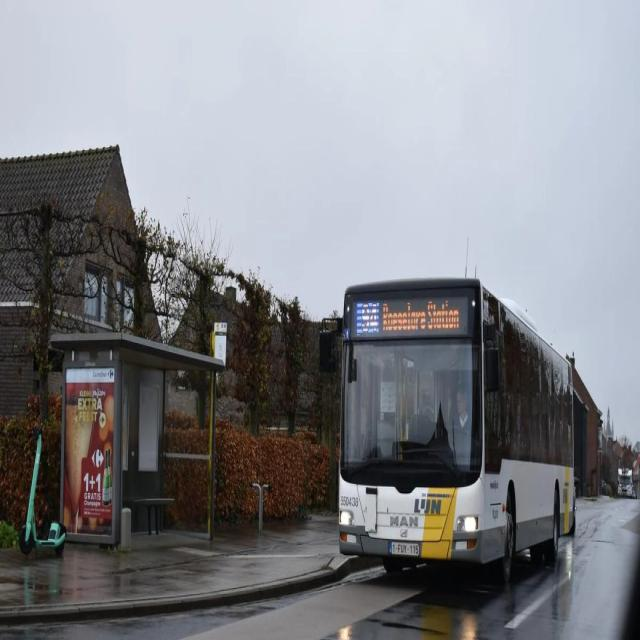bus-number: (356, 300, 379, 336)
